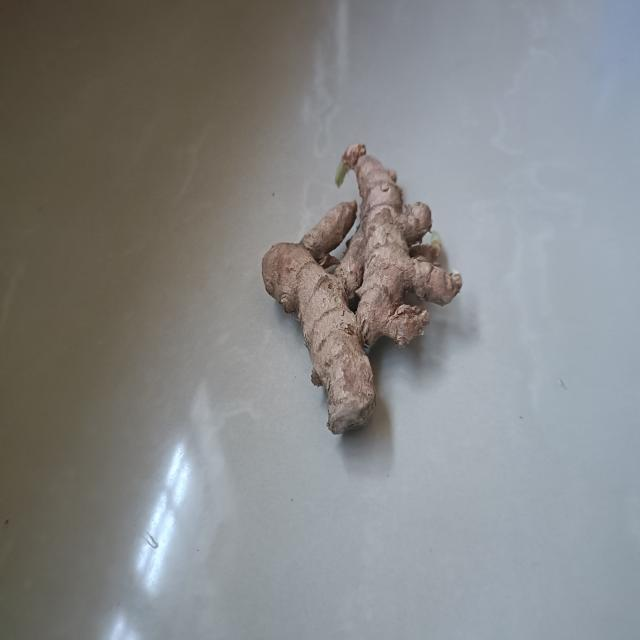ginger: (258, 138, 464, 446)
